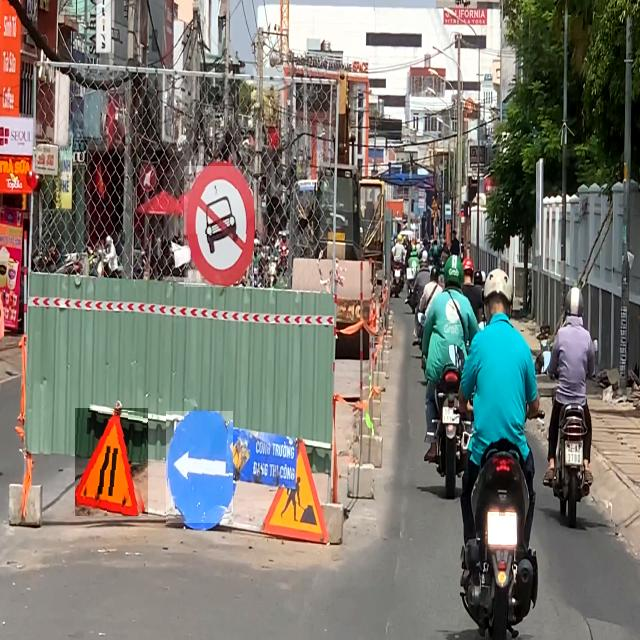24: (166, 412, 233, 524)
39: (75, 408, 148, 516)
bien_hieu_lenh: (184, 166, 254, 287)
